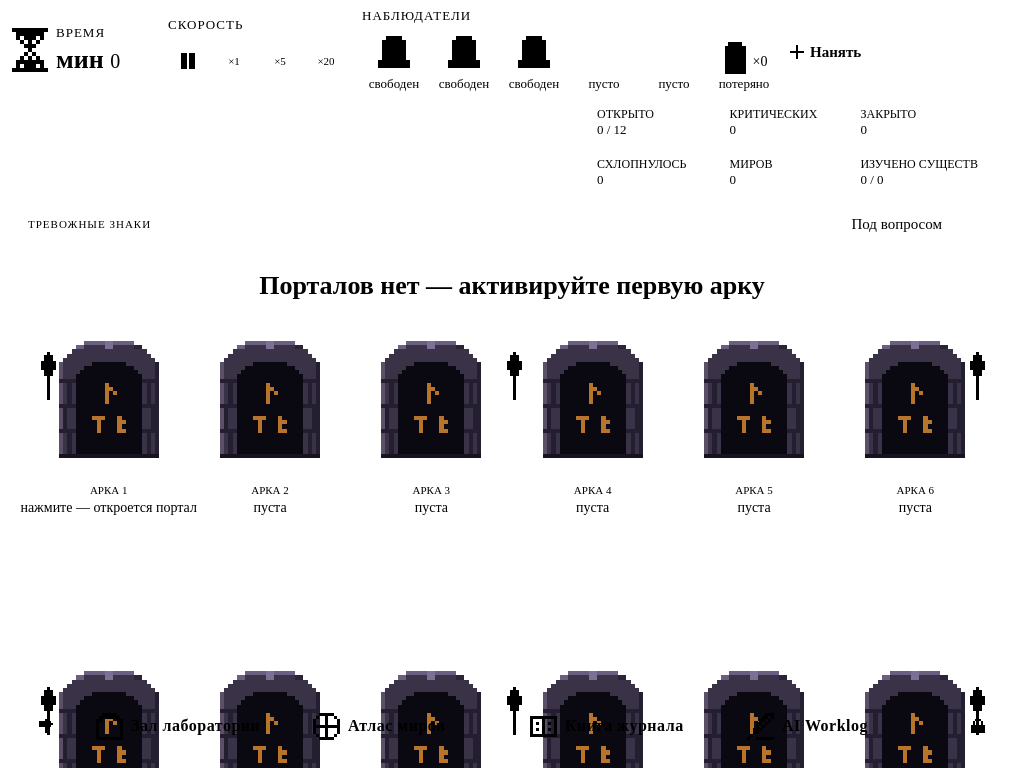
Scenario: приглашение › без приглашения обучение запускается кнопкой в доке
Click the button named "Обучение": (46, 726) x1=24 y1=704 x2=68 y2=748
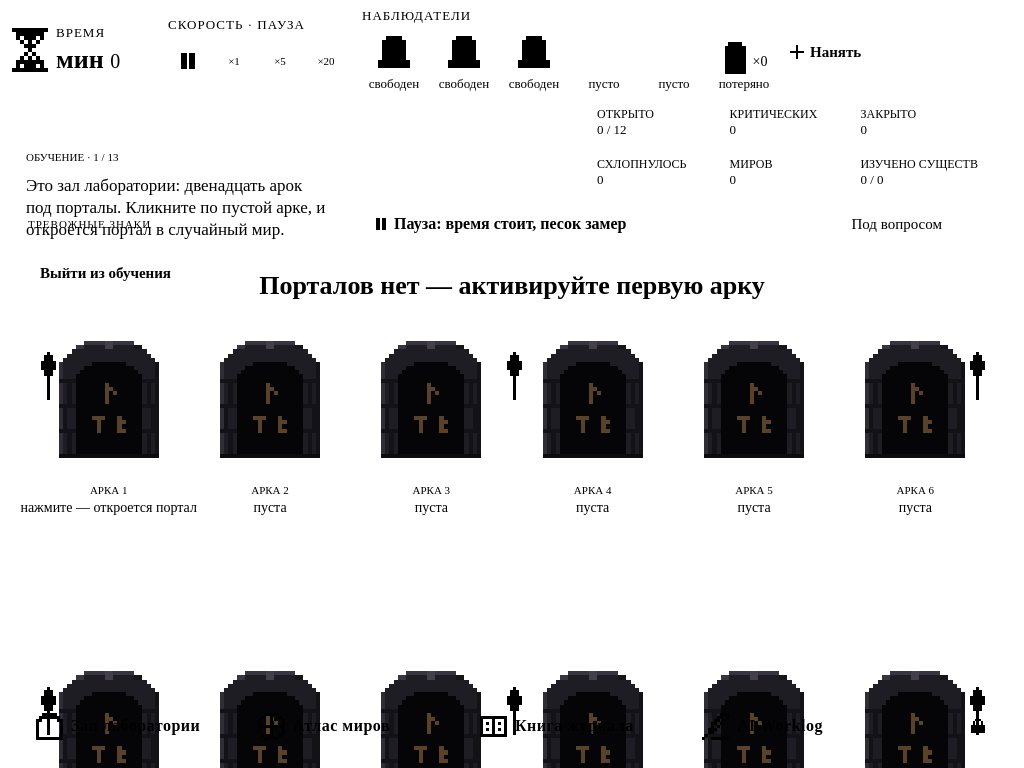
expect the text "ОБУЧЕНИЕ · 1 / 13" is shown: met, box x1=26 y1=151 x2=118 y2=163
